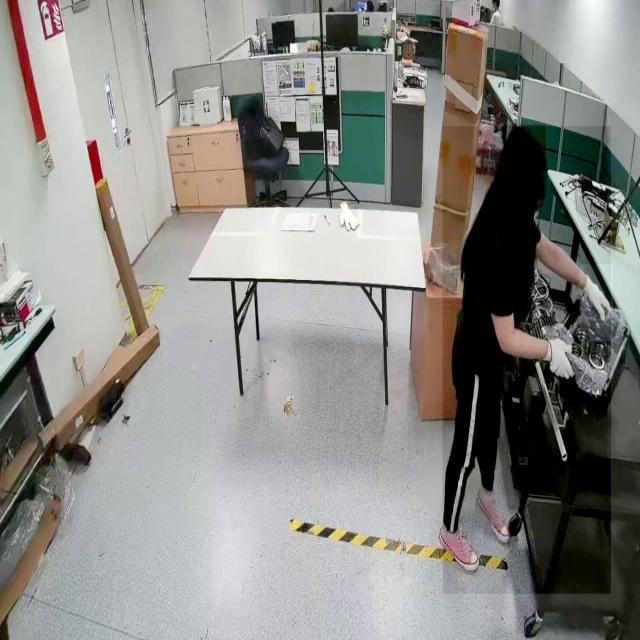hand_glove: (579, 264, 613, 341), (546, 320, 580, 388)
head_nohelmet: (502, 124, 546, 172)
person: (442, 126, 612, 595)
shoes: (436, 517, 482, 577), (473, 483, 511, 549)
